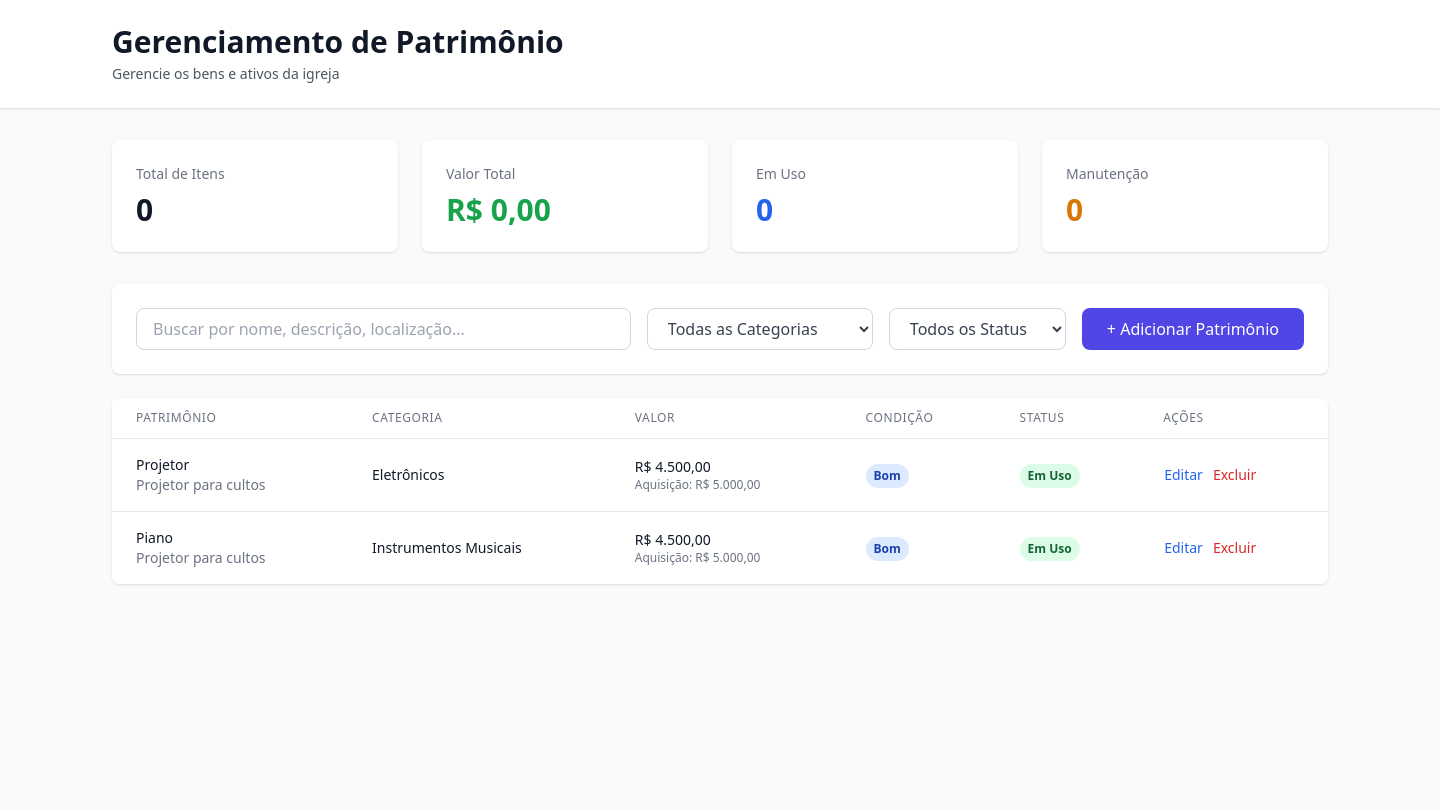
it: AssetsManagementPage › Search and Filtering › should filter assets by category
The width and height of the screenshot is (1440, 810).
Expected: the text "Projetor" is shown, [136, 455, 189, 474]
Select "Eletrônicos" in the 1st dropdown showing "Todas as Categorias" at x=760, y=329, box [647, 308, 873, 350]
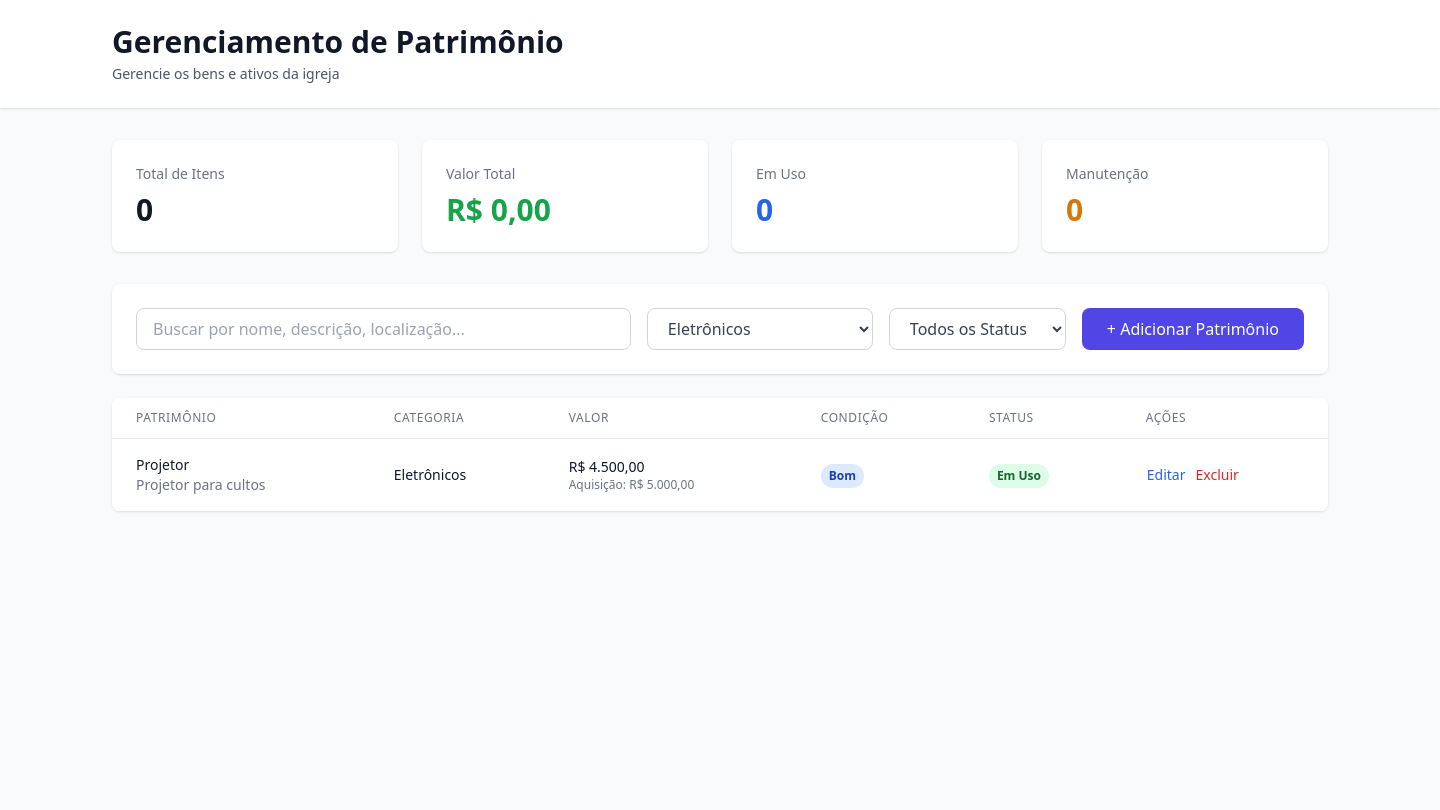
Expected: the text "Projetor" is shown, [136, 455, 189, 474]
Expected: the text "Piano" is gone
